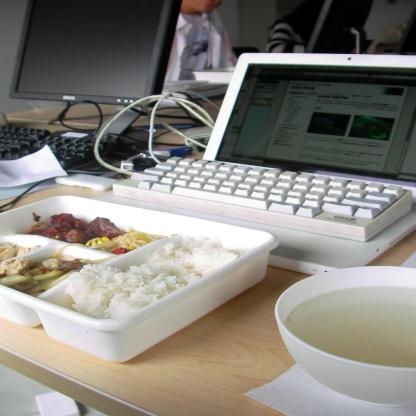board: (92, 52, 416, 278)
